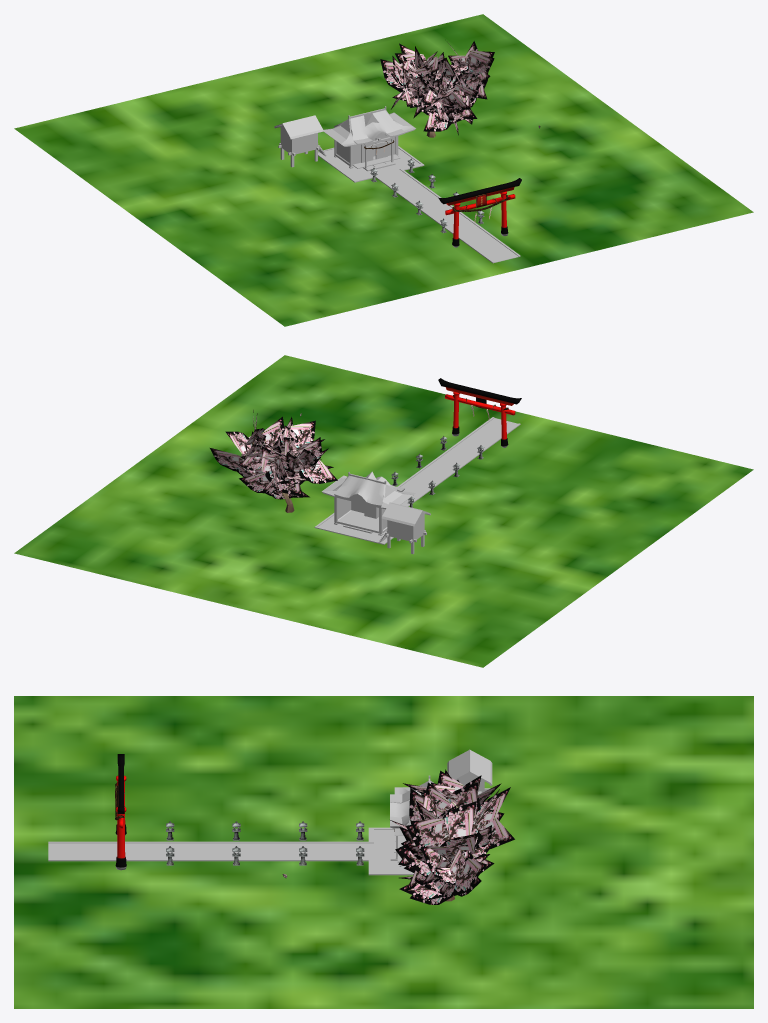
The model's file is hakureishrnie.fbx.
3 views of the same model, one above another, from view 1: azimuth 30°, elevation 25°; view 2: azimuth 150°, elevation 25°; view 3: azimuth 270°, elevation 25° (orthographic). The views are drawn at different scales.
Visible parts, largest first — view 1: Grass, Shrine, Torii, Back Little Building, Lights.002; view 2: Grass, Shrine, Torii, Back Little Building; view 3: Grass, Shrine, Back Little Building, Lights.002, Torii, Tree|sakuraflower|Dupli|215, Tree|sakuraflower|Dupli|216, Tree|sakuraflower|Dupli|99, Tree|sakuraflower|Dupli|123, Tree|sakuraflower|Dupli|125.
Part boxes in pixels (x1,y1,x2,y2): Grass: [14, 14, 753, 326]; Shrine: [318, 106, 520, 263]; Torii: [438, 178, 521, 247]; Back Little Building: [274, 115, 326, 167]; Lights.002: [370, 158, 484, 233]; Grass: [14, 355, 753, 667]; Shrine: [314, 417, 520, 544]; Torii: [438, 378, 521, 447]; Back Little Building: [378, 502, 430, 554]; Grass: [14, 696, 753, 1008]; Shrine: [48, 775, 434, 875]; Back Little Building: [447, 749, 492, 794]; Lights.002: [166, 821, 364, 865]; Torii: [115, 754, 126, 870]; Tree|sakuraflower|Dupli|215: [442, 801, 476, 839]; Tree|sakuraflower|Dupli|216: [411, 818, 448, 846]; Tree|sakuraflower|Dupli|99: [453, 858, 486, 895]; Tree|sakuraflower|Dupli|123: [473, 787, 510, 828]; Tree|sakuraflower|Dupli|125: [474, 817, 514, 848].
Bounding box in the file's own units: 14046 × 2527 × 14046.
